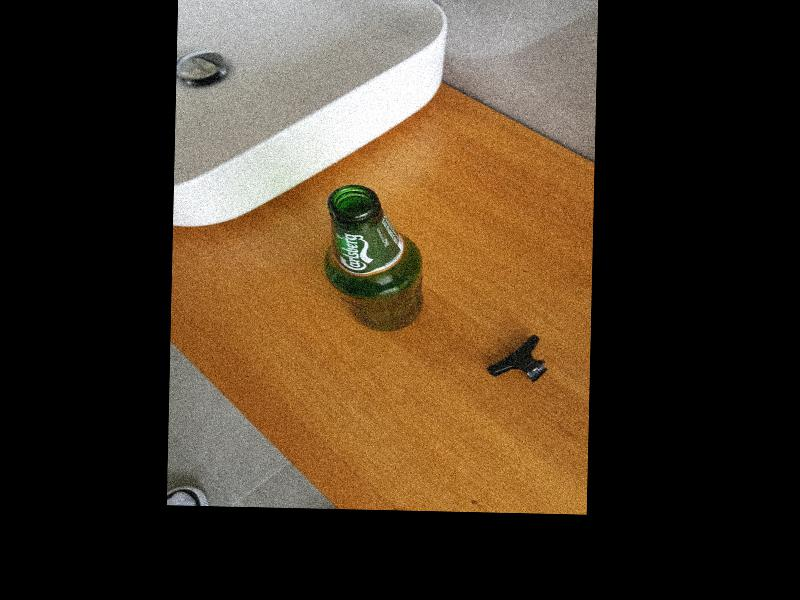Beer: (324, 185, 424, 333)
